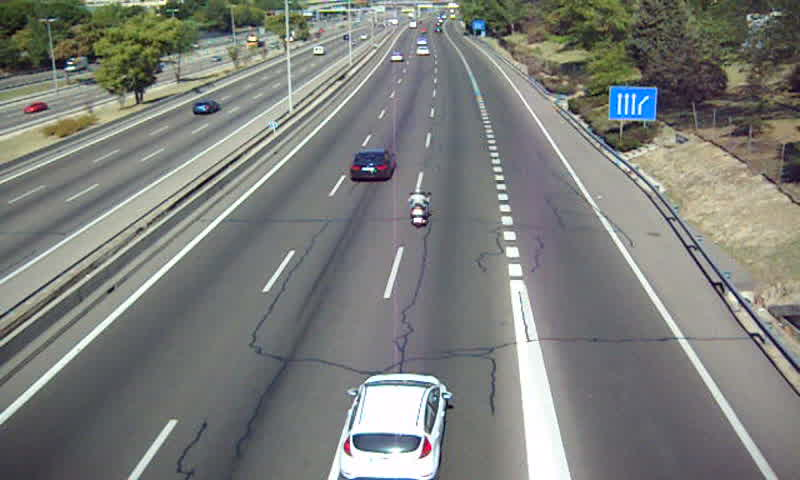car: (340, 373, 448, 480), (350, 150, 397, 180)
motorcycle: (407, 187, 432, 229)
